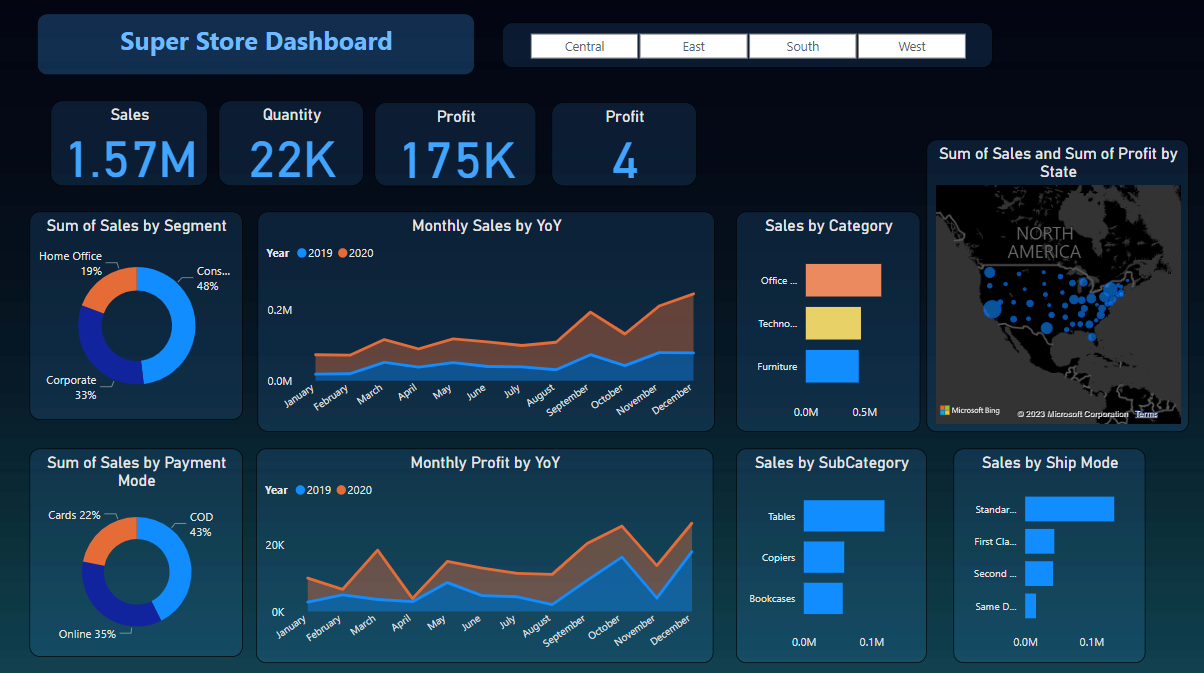

Layout of this report page (visuals, bound fields, positions):
{"tool":"powerbi","page":{"name":"Page 1","canvas":[1280,720],"ordinal":0},"visuals":[{"type":"clusteredBarChart","title":"Sales by Category","fields":{"Category":["SuperStore_Sales_Dataset.Category"],"Y":["Sum(SuperStore_Sales_Dataset.Sales)"]},"box":[782,224.1,195.5,233.6],"z":0},{"type":"clusteredBarChart","title":"Sales by SubCategory","fields":{"Category":["SuperStore_Sales_Dataset.Sub-Category"],"Y":["Sum(SuperStore_Sales_Dataset.Sales)"]},"box":[782,475.2,201.9,227.3],"z":1000},{"type":"clusteredBarChart","title":"Sales by Ship Mode","fields":{"Category":["SuperStore_Sales_Dataset.Ship Mode"],"Y":["Sum(SuperStore_Sales_Dataset.Sales)"]},"box":[1012.5,475.2,203.4,227.3],"z":2000},{"type":"stackedAreaChart","title":"Monthly Sales by YoY","fields":{"Series":["SuperStore_Sales_Dataset.Order Date.Variation.Date Hierarchy.Year"],"Category":["SuperStore_Sales_Dataset.Order Date.Variation.Date Hierarchy.Month","SuperStore_Sales_Dataset.Order Date.Variation.Date Hierarchy.Day"],"Y":["Sum(SuperStore_Sales_Dataset.Sales)"]},"box":[275,224.1,484.8,233.6],"z":3000},{"type":"stackedAreaChart","title":"Monthly Profit by YoY","fields":{"Series":["SuperStore_Sales_Dataset.Order Date.Variation.Date Hierarchy.Year"],"Category":["SuperStore_Sales_Dataset.Order Date.Variation.Date Hierarchy.Month","SuperStore_Sales_Dataset.Order Date.Variation.Date Hierarchy.Day"],"Y":["Sum(SuperStore_Sales_Dataset.Profit)"]},"box":[273.4,475.2,484.8,227.3],"z":4000},{"type":"map","fields":{"Category":["SuperStore_Sales_Dataset.State"],"Size":["Sum(SuperStore_Sales_Dataset.Sales)"]},"box":[983.8,147.8,278.1,309.9],"z":5000},{"type":"donutChart","fields":{"Category":["SuperStore_Sales_Dataset.Segment"],"Y":["Sum(SuperStore_Sales_Dataset.Sales)"]},"box":[33.4,224.1,225.7,220.9],"z":6000},{"type":"donutChart","fields":{"Y":["Sum(SuperStore_Sales_Dataset.Sales)"],"Category":["SuperStore_Sales_Dataset.Payment Mode"]},"box":[33.4,475.2,225.7,220.9],"z":7000},{"type":"slicer","fields":{"Values":["SuperStore_Sales_Dataset.Region"]},"box":[534,23.8,519.7,47.7],"z":8000},{"type":"textbox","box":[41.3,14.3,464.1,65.2],"z":9000},{"type":"card","title":"Sales","fields":{"Values":["Sum(SuperStore_Sales_Dataset.Sales)"]},"box":[55.6,106.5,166.9,90.6],"z":10000},{"type":"card","title":"Quantity","fields":{"Values":["Sum(SuperStore_Sales_Dataset.Quantity)"]},"box":[233.6,106.5,154.2,90.6],"z":11000},{"type":"card","title":"Profit","fields":{"Values":["Sum(SuperStore_Sales_Dataset.Profit)"]},"box":[398.9,108.1,171.7,89],"z":12000},{"type":"card","title":"Profit","fields":{"Values":["Avg(SuperStore_Sales_Dataset.AvgDelivery)"]},"box":[586.5,108.1,154.2,89],"z":12001}]}

Visuals, with their boxes in screenshot pixels (x1, y1, x2, y2), scaled from the page's 1280x720 canvas onto the 1204x673 screenshot:
"Sales by Category" clusteredBarChart: crop(736, 209, 919, 428)
"Sales by SubCategory" clusteredBarChart: crop(736, 444, 925, 657)
"Sales by Ship Mode" clusteredBarChart: crop(952, 444, 1144, 657)
"Monthly Sales by YoY" stackedAreaChart: crop(259, 209, 715, 428)
"Monthly Profit by YoY" stackedAreaChart: crop(257, 444, 713, 657)
map - SuperStore_Sales_Dataset.State x Sum(SuperStore_Sales_Dataset.Sales): crop(925, 138, 1187, 428)
donutChart - SuperStore_Sales_Dataset.Segment x Sum(SuperStore_Sales_Dataset.Sales): crop(31, 209, 244, 416)
donutChart - Sum(SuperStore_Sales_Dataset.Sales) x SuperStore_Sales_Dataset.Payment Mode: crop(31, 444, 244, 651)
slicer - SuperStore_Sales_Dataset.Region: crop(502, 22, 991, 67)
textbox: crop(39, 13, 475, 74)
"Sales" card: crop(52, 100, 209, 184)
"Quantity" card: crop(220, 100, 365, 184)
"Profit" card: crop(375, 101, 537, 184)
"Profit" card: crop(552, 101, 697, 184)
